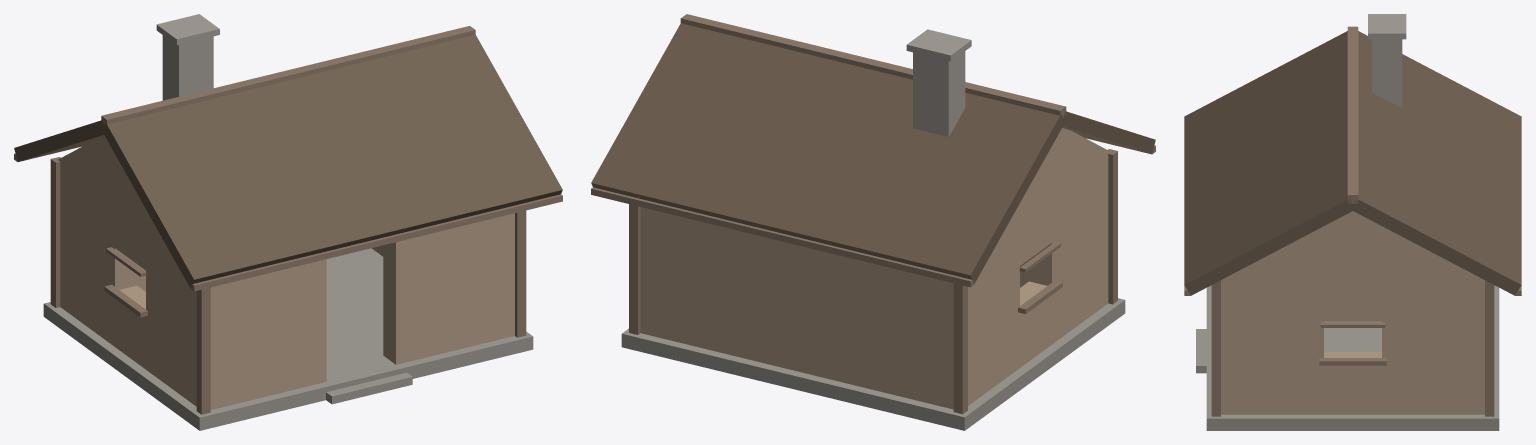
File: cabin.glb
3 renders of one model, left to right at view 1: azimuth 30°, elevation 25°; view 2: azimuth 150°, elevation 25°; view 3: azimuth 270°, elevation 25°, orthographic. The views are drawn at different scales.
Parts seen in each view (by area): view 1: roof_front, wall_front_r, foundation, wall_front_l, wl_bot, wl_top, roof_ridge, eave_front, gable_l, chimney, wl_bmid, wl_fmid (+7 smaller); view 2: roof_back, wall_back, foundation, wl_bot, wl_top, chimney, roof_ridge, eave_back, gable_l, wl_fmid, wl_bmid, wall_front_l (+5 smaller); view 3: roof_front, roof_back, wr_bot, wr_top, gable_r, foundation, wr_bmid, wr_fmid, wall_back, wall_front_r, roof_ridge, chimney (+6 smaller).
Part boxes in pixels (<box>): roof_front: <box>102,34,562,288</box>; wall_front_r: <box>383,213,514,364</box>; foundation: <box>43,248,533,430</box>; wall_front_l: <box>190,259,326,409</box>; wl_bot: <box>70,259,190,401</box>; wl_top: <box>70,169,190,302</box>; roof_ridge: <box>101,26,475,126</box>; eave_front: <box>190,194,562,291</box>; gable_l: <box>58,136,159,234</box>; chimney: <box>162,35,213,100</box>; wl_bmid: <box>70,216,137,289</box>; wl_fmid: <box>146,271,190,345</box>; roof_back: <box>591,23,1063,283</box>; wall_back: <box>640,207,973,409</box>; foundation: <box>621,298,1125,430</box>; wl_bot: <box>974,253,1097,401</box>; wl_top: <box>974,162,1097,299</box>; chimney: <box>913,51,965,136</box>; roof_ridge: <box>680,14,1066,117</box>; eave_back: <box>591,187,974,287</box>; gable_l: <box>1005,128,1110,228</box>; wl_fmid: <box>1029,209,1097,285</box>; wl_bmid: <box>974,266,1019,343</box>; wall_front_l: <box>1020,154,1108,310</box>; roof_front: <box>1184,31,1355,295</box>; roof_back: <box>1350,31,1521,295</box>; wr_bot: <box>1240,352,1465,414</box>; wr_top: <box>1240,278,1465,321</box>; gable_r: <box>1225,211,1480,278</box>; foundation: <box>1206,285,1499,430</box>; wr_bmid: <box>1382,321,1465,361</box>; wr_fmid: <box>1240,321,1323,361</box>; wall_back: <box>1465,278,1484,414</box>; wall_front_r: <box>1221,278,1240,414</box>; roof_ridge: <box>1347,26,1358,203</box>; chimney: <box>1372,39,1402,108</box>.
Size of the model in its own units: 5.84 by 4.74 by 4.94.
